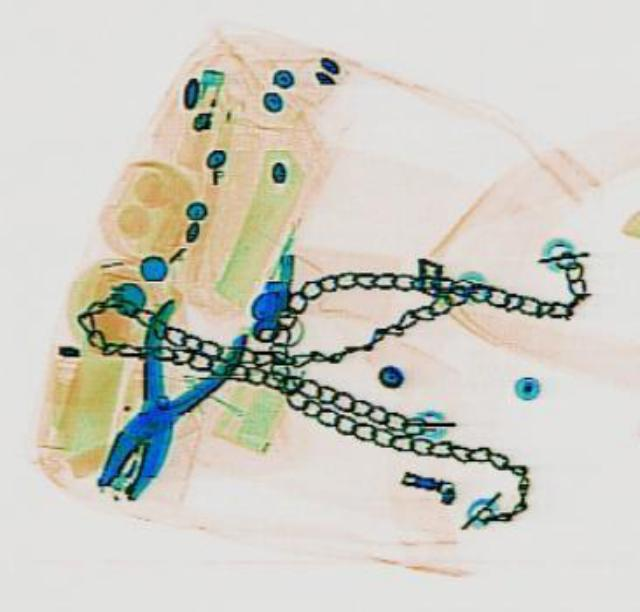Pliers: (66, 291, 254, 508)
